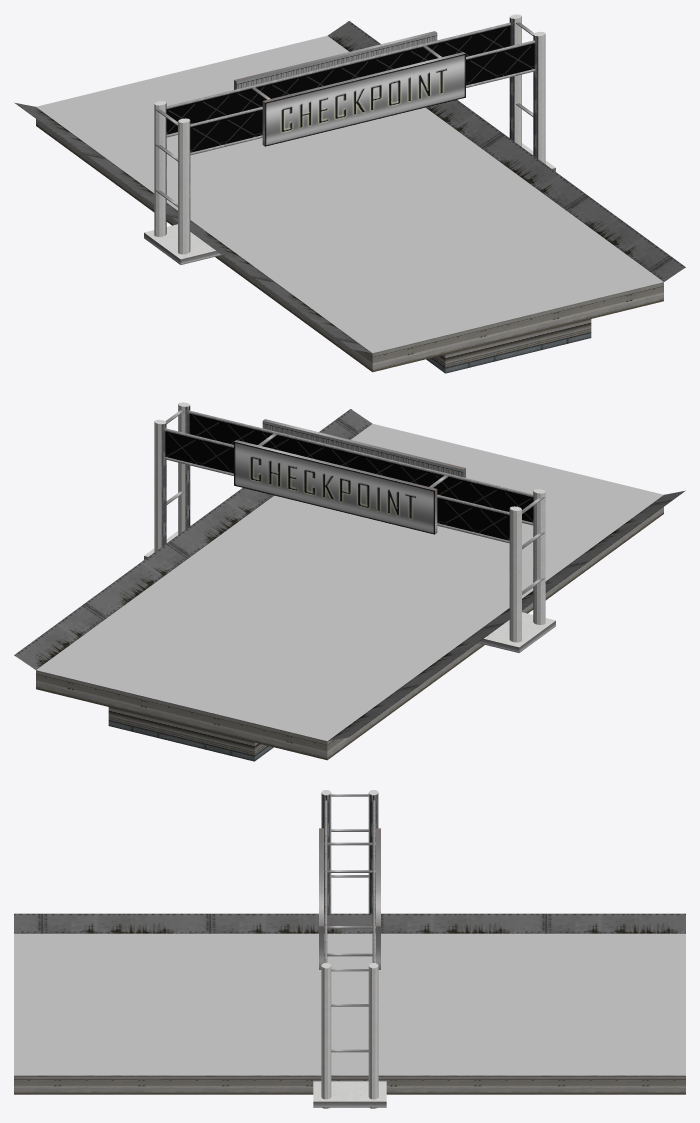
Rendered from Checkpoint.fbx.
3 views of the same model, one above another, from view 1: azimuth 30°, elevation 25°; view 2: azimuth 150°, elevation 25°; view 3: azimuth 270°, elevation 25° (orthographic).
Visible parts, largest first — view 1: Empty_Mesh; view 2: Empty_Mesh; view 3: Empty_Mesh.
Part boxes in pixels (x1,y1,x2,y2): Empty_Mesh: (14, 14, 685, 373); Empty_Mesh: (14, 402, 685, 761); Empty_Mesh: (14, 790, 685, 1108).
Bounding box in the file's own units: 20.6 × 8.69 × 32.
